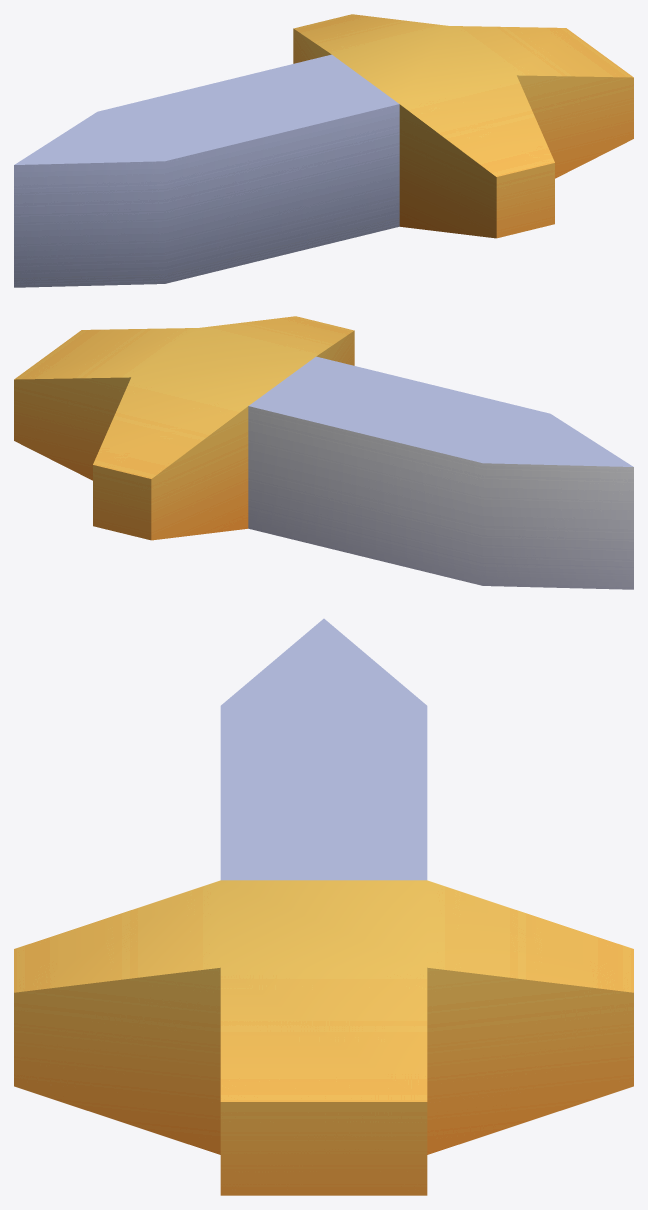
File: weapon-sword.glb
3 renders of one model, top to bottom at view 1: azimuth 30°, elevation 25°; view 2: azimuth 150°, elevation 25°; view 3: azimuth 270°, elevation 25°, orthographic. The views are drawn at different scales.
Parts seen in each view (by area): view 1: weapon-sword; view 2: weapon-sword; view 3: weapon-sword.
Boxes of the visible parts, box(x1,y1,x2,y2) form: weapon-sword: box(14, 14, 633, 287); weapon-sword: box(14, 316, 633, 589); weapon-sword: box(14, 618, 633, 1195).
Bounding box in the file's own units: 0.5 × 0.1 × 0.3.
Materials: 1 (1 with a texture image).
